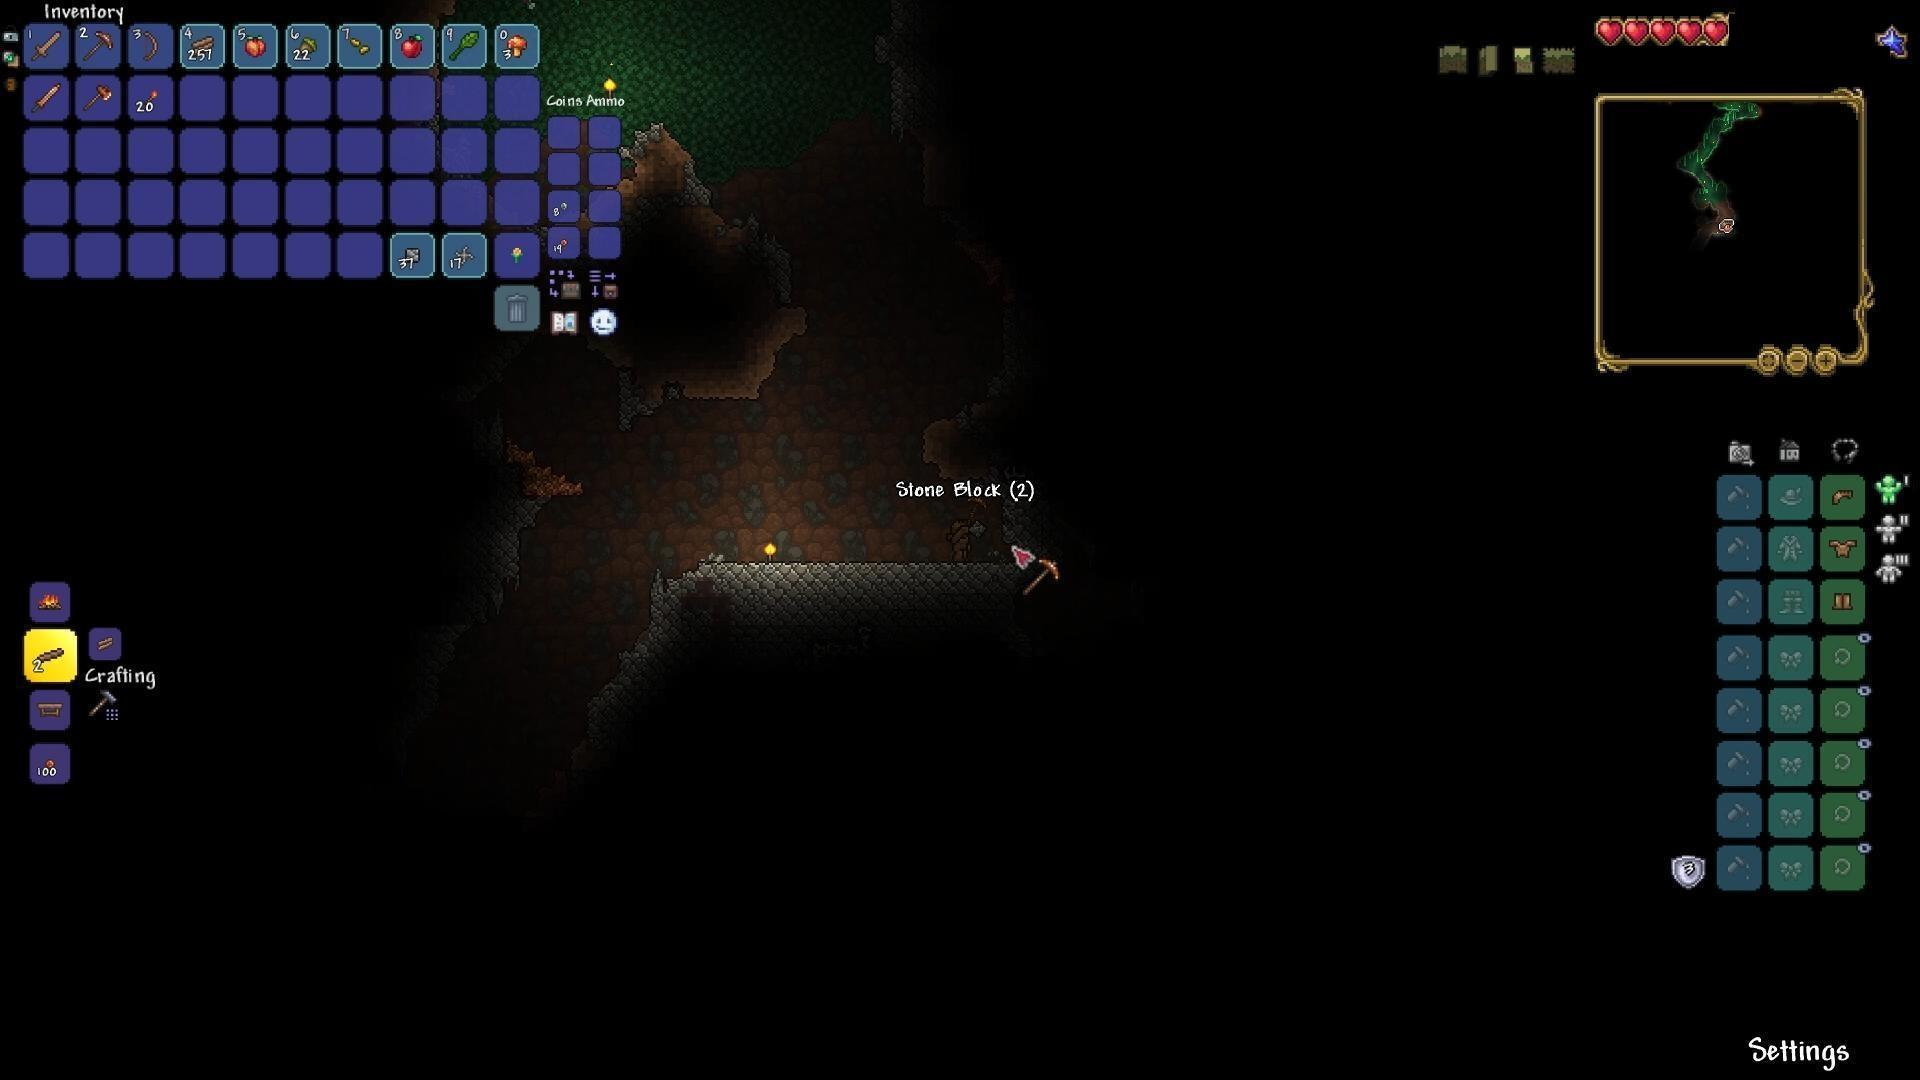dirt: (914, 402, 1104, 495), (641, 320, 828, 405)
heart: (1702, 17, 1733, 51), (1593, 16, 1626, 46), (1676, 15, 1704, 50), (1650, 16, 1676, 49), (1625, 15, 1651, 44)
stone: (650, 563, 1001, 599), (683, 169, 724, 204)
